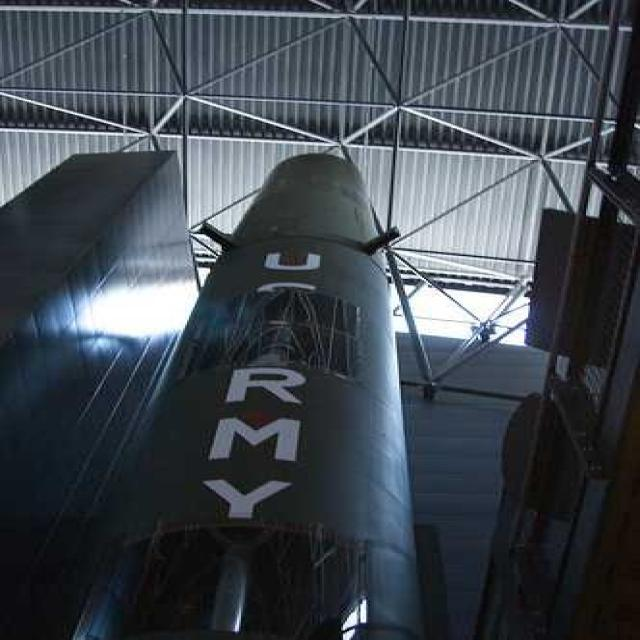missile: (74, 142, 417, 640)
